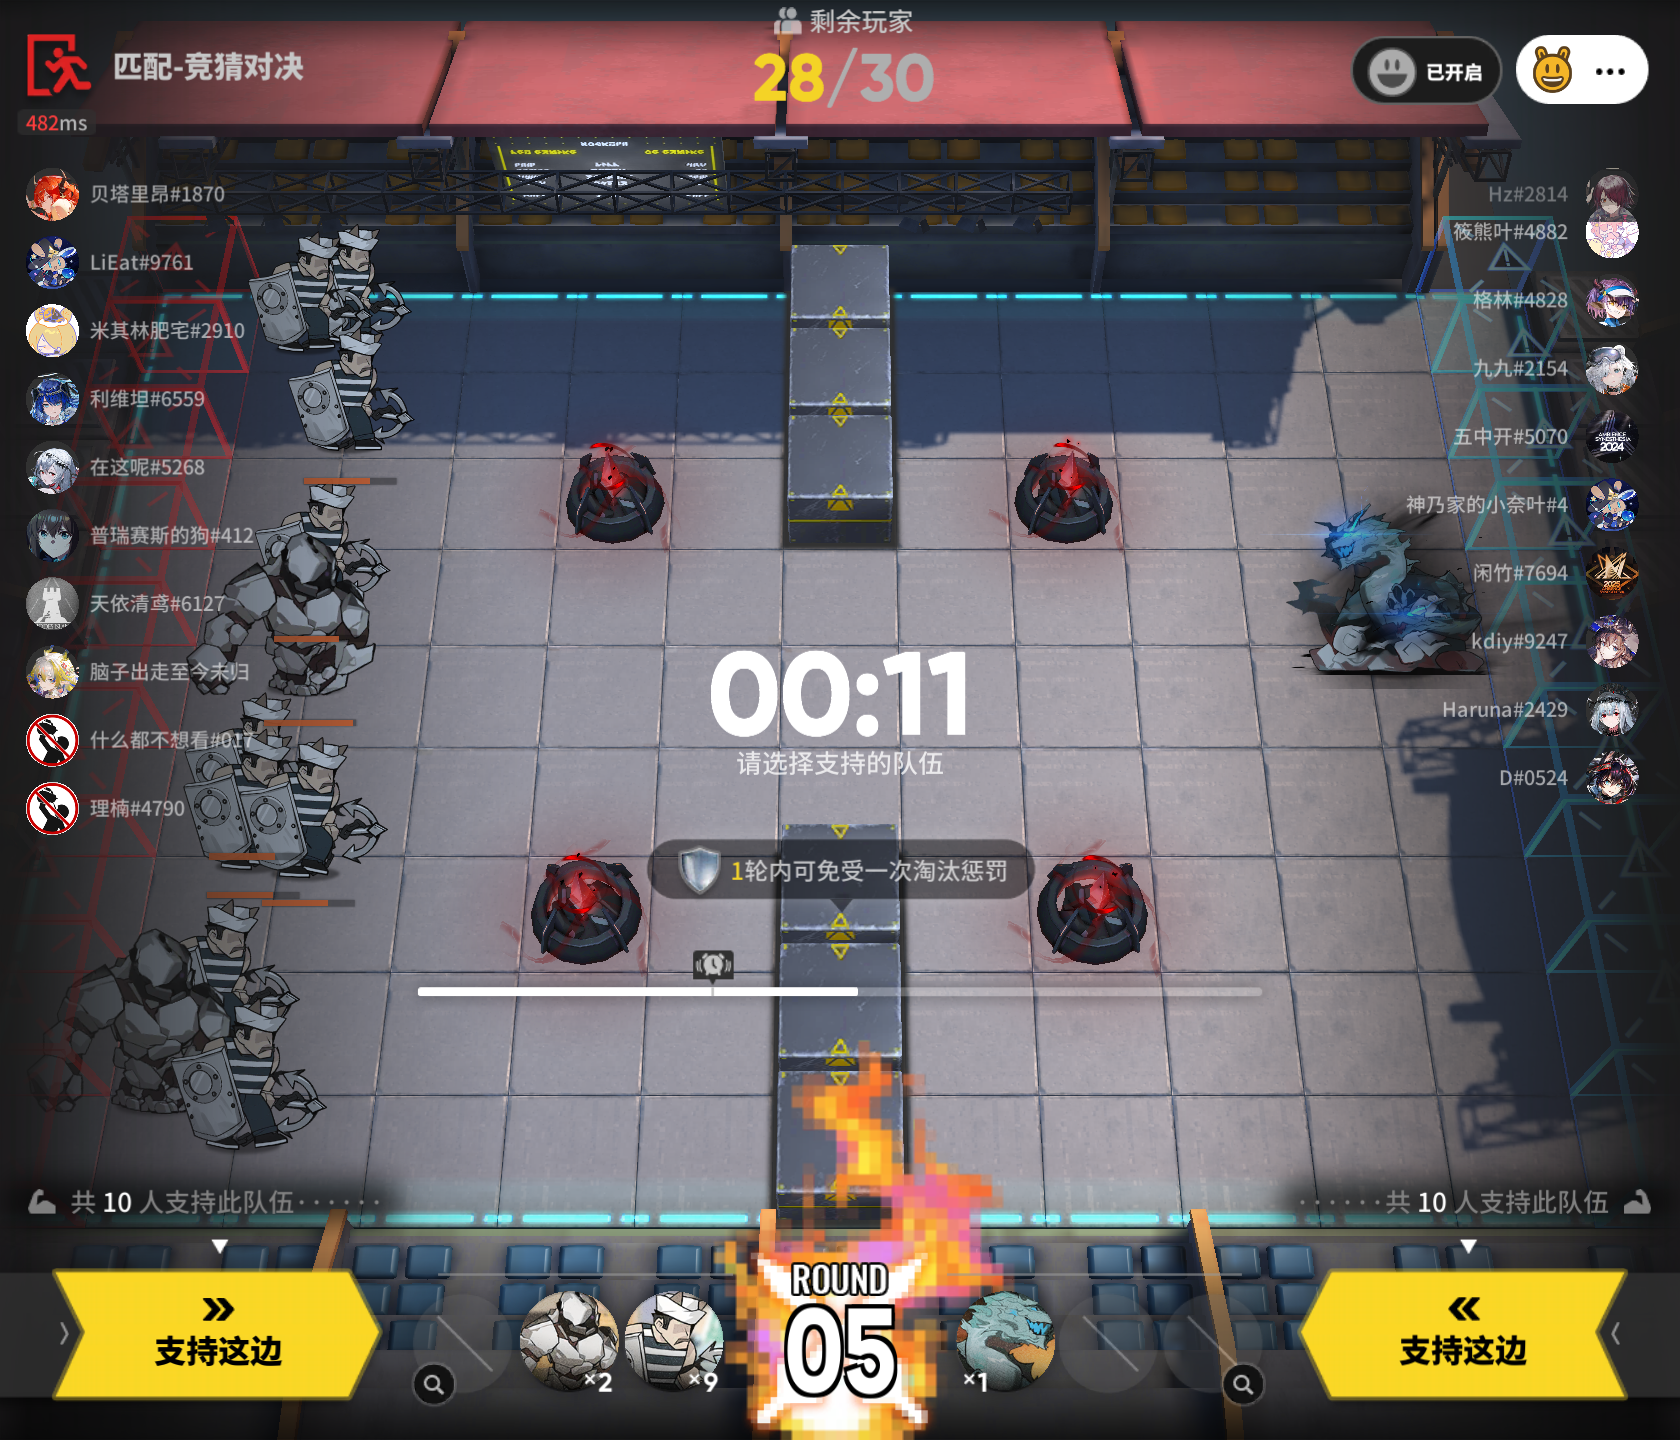“自在”: (1281, 501, 1509, 690), (954, 1286, 1071, 1390)
源石祭坛: (1029, 846, 1174, 981), (516, 853, 650, 974), (1014, 437, 1131, 551), (560, 436, 676, 550)
砸人的石头: (193, 521, 379, 709), (51, 919, 221, 1120), (521, 1284, 626, 1396)
过气水手: (183, 991, 334, 1157), (259, 736, 394, 891), (254, 479, 406, 610), (159, 900, 301, 1021), (250, 226, 367, 357), (300, 329, 414, 456), (186, 739, 286, 877), (621, 1291, 734, 1401), (320, 219, 409, 354), (189, 689, 299, 791)
阻挡物: (769, 1057, 919, 1241), (769, 934, 919, 1069), (787, 406, 911, 541), (779, 819, 909, 936), (779, 236, 906, 329), (774, 316, 901, 409)
